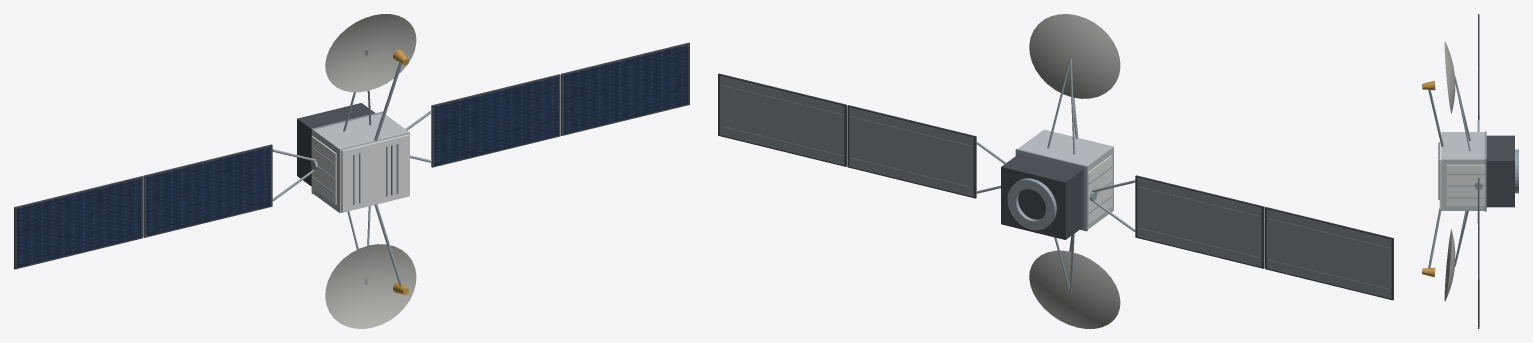
Rendered from maxar-1300-galaxy-cband.glb.
3 renders of one model, left to right at view 1: azimuth 30°, elevation 25°; view 2: azimuth 150°, elevation 25°; view 3: azimuth 270°, elevation 25°, orthographic. The views are drawn at different scales.
Visible parts, largest first — view 1: Solar cell panel (×4), Communications reflector (×2), Earth-facing deck, Solar panel frame (×4), Payload module, Service module, Radiator face; view 2: Rear array substrate (×4), Communications reflector (×2), Service module, Solar panel frame (×4), Payload module, Launch adapter ring, Radiator face, Module interface; view 3: Service module, Payload module, Radiator face, Communications reflector (×2), Solar panel frame (×4), Shell hinge strut (×3), Offset feed boom (×2), Feed horn (×2), Earth-facing deck, Module interface, Launch adapter ring, Rear array substrate.
Boxes of the visible parts, <box> form: Solar cell panel (×4): <box>16,45,688,267</box>; Communications reflector (×2): <box>325,14,416,328</box>; Earth-facing deck: <box>341,134,409,212</box>; Solar panel frame (×4): <box>14,42,689,269</box>; Payload module: <box>313,113,409,213</box>; Service module: <box>297,103,375,186</box>; Radiator face: <box>311,136,336,204</box>; Rear array substrate (×4): <box>720,76,1391,298</box>; Communications reflector (×2): <box>1029,14,1120,328</box>; Service module: <box>1001,154,1083,239</box>; Solar panel frame (×4): <box>718,73,1393,300</box>; Payload module: <box>1018,129,1113,229</box>; Launch adapter ring: <box>1007,178,1056,230</box>; Radiator face: <box>1087,155,1112,224</box>; Module interface: <box>1015,148,1087,231</box>; Service module: <box>1486,135,1514,207</box>; Payload module: <box>1441,132,1484,210</box>; Radiator face: <box>1446,164,1485,206</box>; Communications reflector (×2): <box>1444,41,1455,301</box>; Solar panel frame (×4): <box>1478,14,1479,328</box>; Shell hinge strut (×3): <box>1455,76,1470,266</box>; Offset feed boom (×2): <box>1428,90,1443,268</box>; Feed horn (×2): <box>1422,80,1435,277</box>; Earth-facing deck: <box>1439,133,1441,209</box>; Module interface: <box>1484,131,1486,211</box>; Launch adapter ring: <box>1515,149,1518,193</box>; Rear array substrate: <box>1479,231,1479,326</box>.
Bounding box in the file's own units: 26.95 × 11.91 × 4.16.
8 materials, 1 textured.
